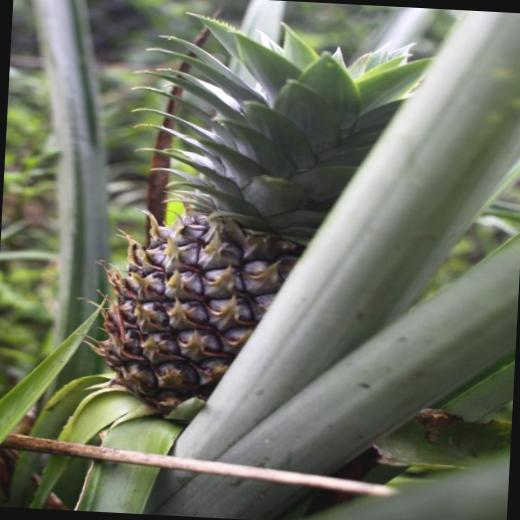Mango: (67, 5, 438, 428)
